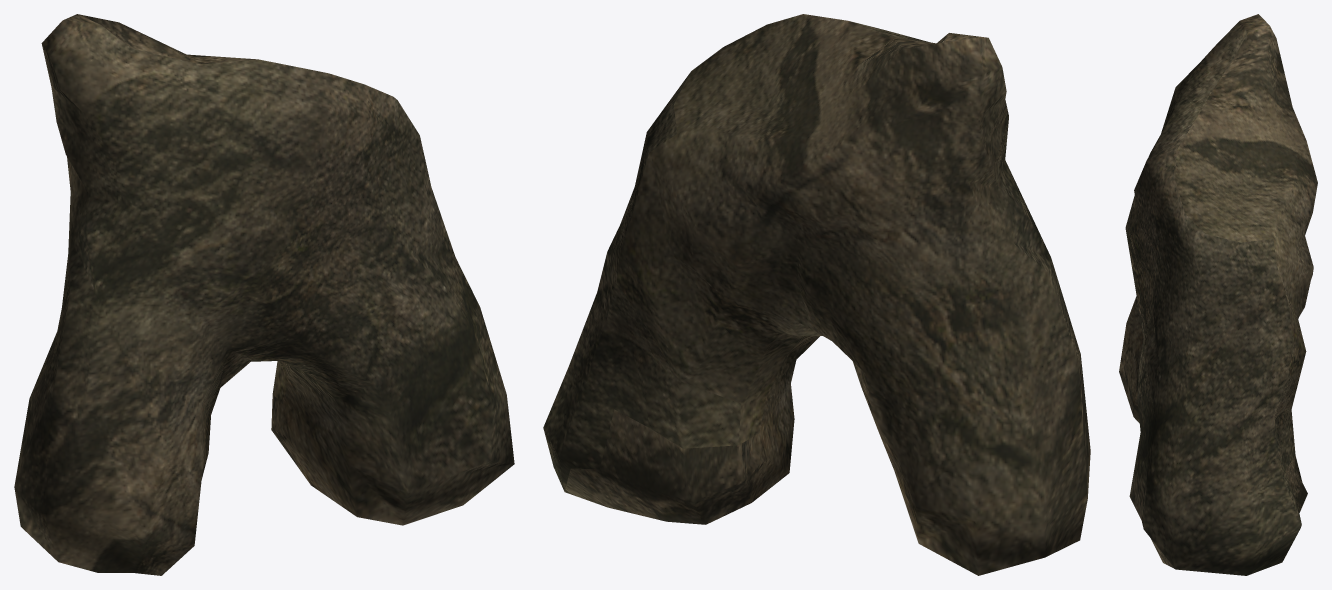
Rendered from LCRG_Rock07.fbx.
The picture shows the model from 3 angles, left to right: view 1: azimuth 30°, elevation 25°; view 2: azimuth 150°, elevation 25°; view 3: azimuth 270°, elevation 25°; orthographic projection. The views are drawn at different scales.
Visible parts, largest first — view 1: LCRG_Rock07; view 2: LCRG_Rock07; view 3: LCRG_Rock07.
Boxes of the visible parts, <box> form: LCRG_Rock07: <box>14,14,514,575</box>; LCRG_Rock07: <box>543,14,1090,575</box>; LCRG_Rock07: <box>1119,14,1317,575</box>.
Size of the model in its own units: 7.81 by 8.42 by 3.62.
